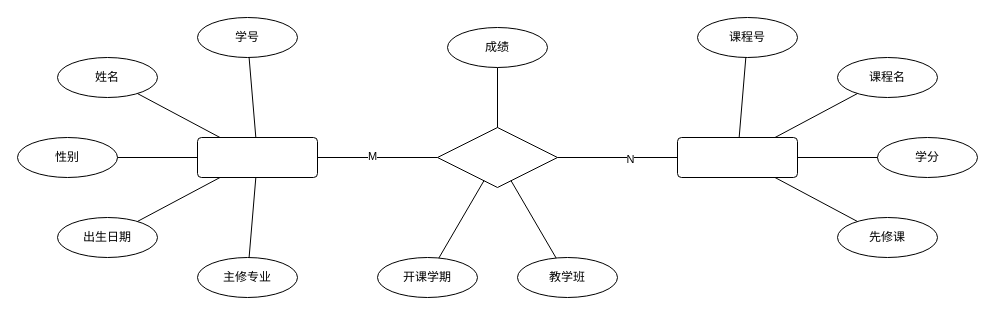
This 995x315 diagram has some shape labels left out. Here are the shapes that lost their labels. From the top down, the box of each, then its label:
(196, 136, 318, 178): 学生
(436, 126, 558, 188): 选课
(676, 136, 798, 178): 课程
